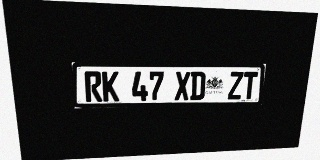4: (132, 71, 148, 101)
7: (148, 71, 164, 101)
D: (190, 71, 206, 100)
K: (102, 71, 119, 102)
R: (84, 71, 102, 102)
T: (242, 72, 258, 99)
X: (175, 71, 190, 100)
Z: (228, 72, 244, 99)
